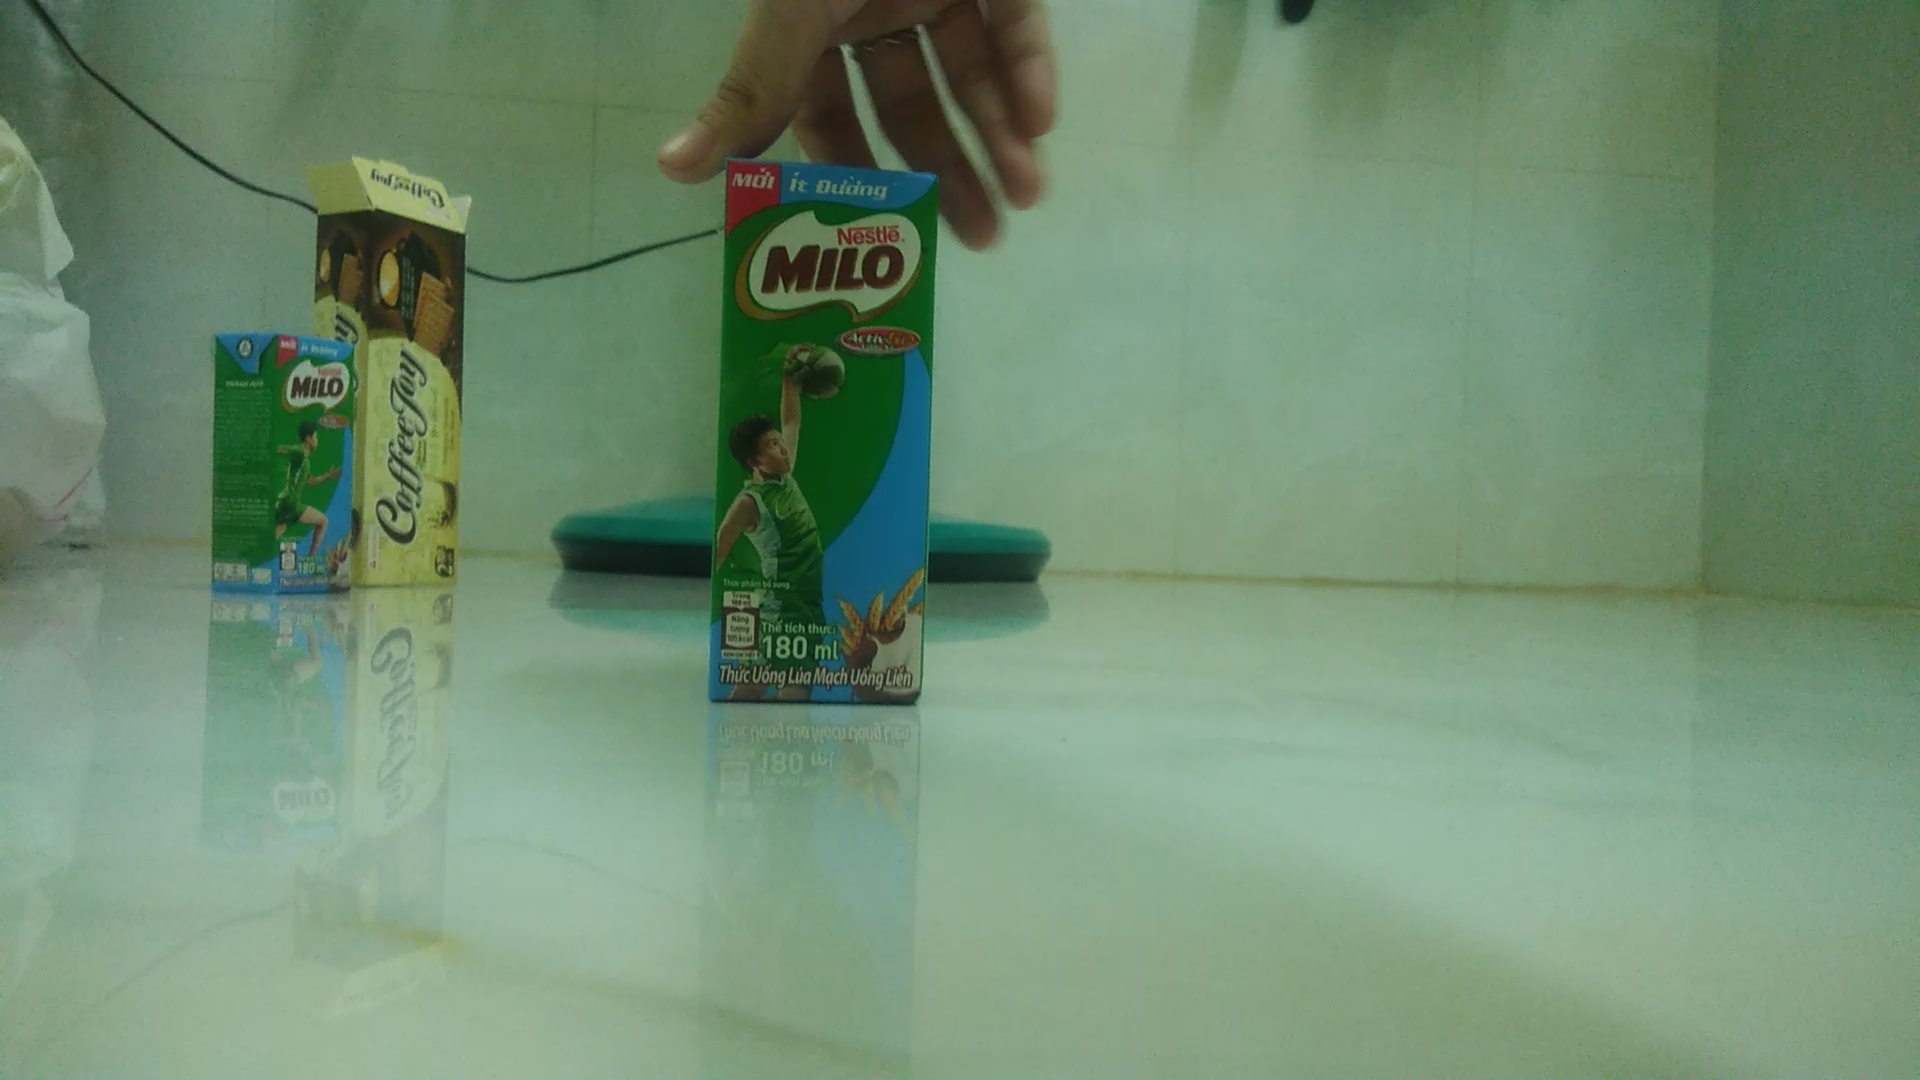Milo_Box: (707, 156, 935, 705), (210, 331, 352, 597)
